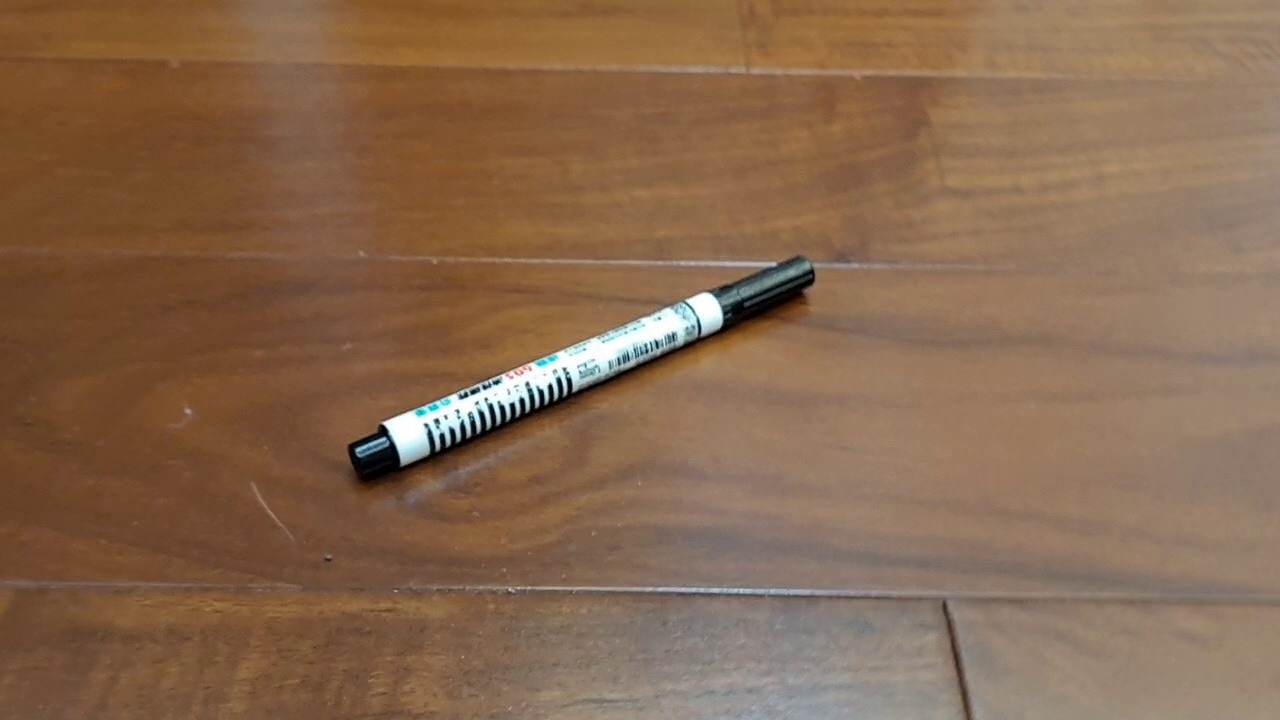pen: (346, 255, 817, 483)
